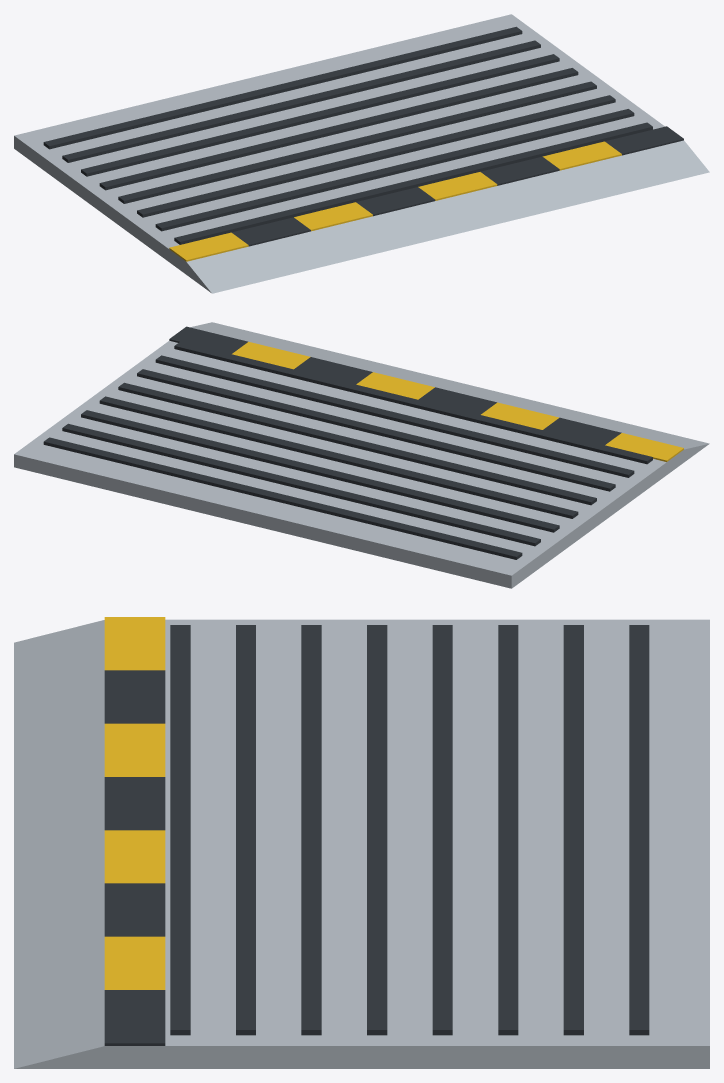
The model's file is dock-plate.glb.
3 renders of one model, top to bottom at view 1: azimuth 30°, elevation 25°; view 2: azimuth 150°, elevation 25°; view 3: azimuth 270°, elevation 25°, orthographic. The views are drawn at different scales.
Parts seen in each view (by area): view 1: Prop_DockPlate_mesh; view 2: Prop_DockPlate_mesh; view 3: Prop_DockPlate_mesh.
Boxes of the visible parts, x1,y1,x2,y2 form: Prop_DockPlate_mesh: (14, 14, 709, 293); Prop_DockPlate_mesh: (14, 322, 709, 588); Prop_DockPlate_mesh: (14, 617, 709, 1068).
Size of the model in its own units: 2 by 0.062 by 1.38.
